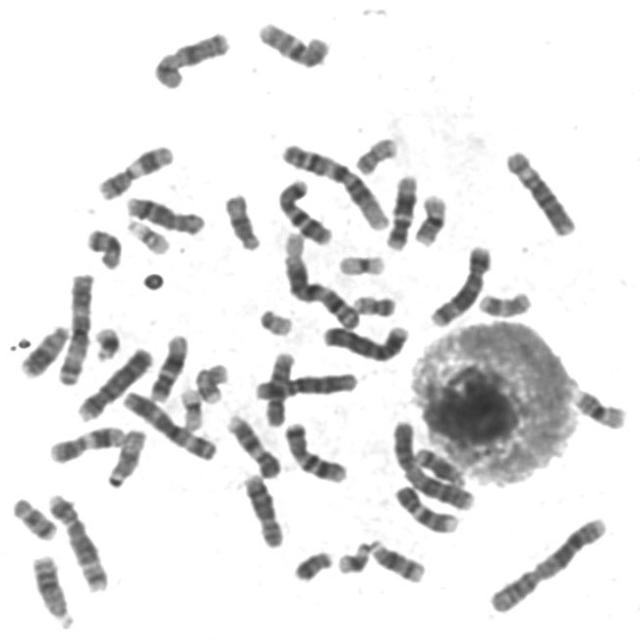A1: (278, 138, 392, 232), (278, 227, 363, 331)
A2: (484, 511, 612, 615), (387, 414, 479, 512)
A3: (117, 385, 220, 462), (52, 266, 97, 388)
B4: (72, 341, 155, 423), (317, 318, 413, 363)
B5: (42, 488, 111, 594), (426, 239, 494, 329)
C10: (253, 15, 333, 70), (260, 346, 298, 428)
C11: (92, 138, 177, 202), (44, 420, 128, 466)
C12: (380, 169, 421, 251), (146, 329, 190, 403)
C6: (500, 144, 580, 238), (250, 367, 360, 401)
C7: (279, 416, 351, 486), (272, 172, 336, 246)
C8: (238, 468, 287, 550), (121, 191, 207, 237)
C9: (221, 410, 283, 480), (390, 480, 462, 535)
D13: (27, 549, 76, 630), (15, 319, 74, 379)
D14: (364, 535, 428, 585), (410, 442, 469, 490)
D15: (102, 423, 148, 490), (220, 188, 264, 252)
E16: (568, 382, 630, 432), (410, 188, 450, 248)
E17: (474, 286, 535, 320), (190, 358, 231, 405)
E18: (7, 491, 60, 542), (81, 223, 125, 270)
F19: (334, 248, 388, 278), (175, 383, 205, 432)
F20: (351, 131, 402, 175), (348, 289, 399, 318)
G21: (333, 536, 374, 576), (89, 322, 124, 362)
G22: (122, 213, 173, 256), (255, 304, 296, 338)
X: (148, 25, 233, 90)
Y: (288, 544, 336, 583)
